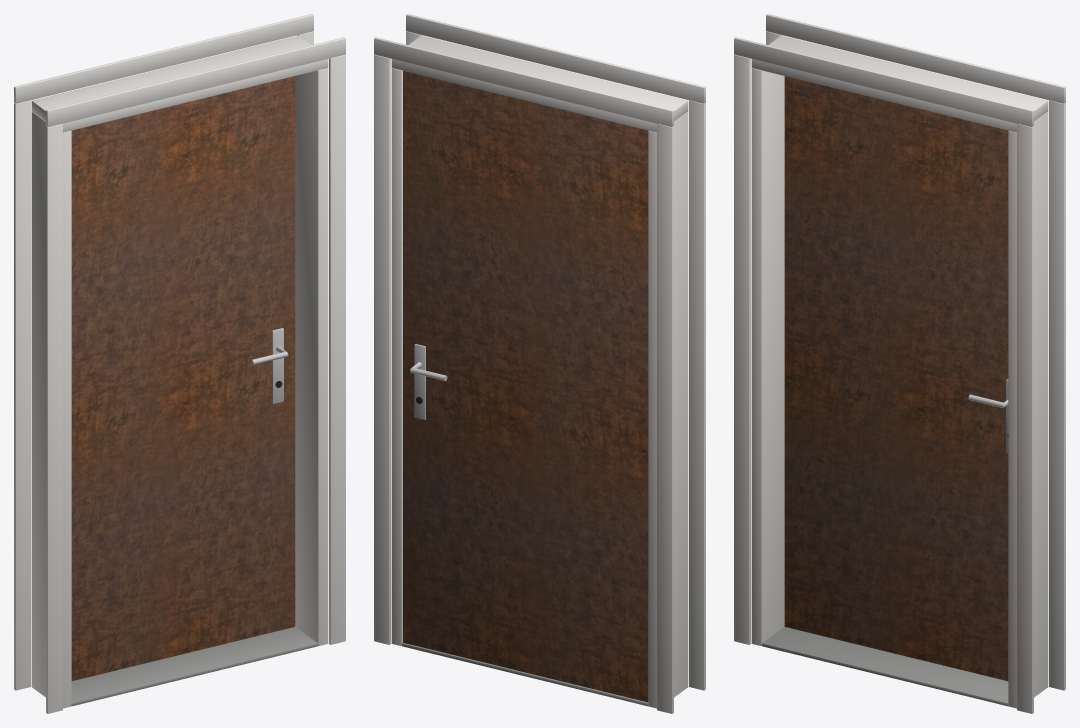
File: rec5jRiufewsyUk1Q.glb
3 renders of one model, left to right at view 1: azimuth 30°, elevation 25°; view 2: azimuth 150°, elevation 25°; view 3: azimuth 330°, elevation 25°, orthographic.
Parts seen in each view (by area): view 1: porte_entree__battant, porte_entree__cadre; view 2: porte_entree__battant, porte_entree__cadre; view 3: porte_entree__battant, porte_entree__cadre.
Boxes of the visible parts, <box> form: porte_entree__battant: <box>71,76,295,681</box>; porte_entree__cadre: <box>14,14,345,713</box>; porte_entree__battant: <box>403,71,648,702</box>; porte_entree__cadre: <box>374,14,705,713</box>; porte_entree__battant: <box>784,76,1008,681</box>; porte_entree__cadre: <box>734,14,1065,713</box>.
Bounding box in the file's own units: 1.15 × 2.21 × 0.2734.
Materials: 5 (2 with a texture image).
